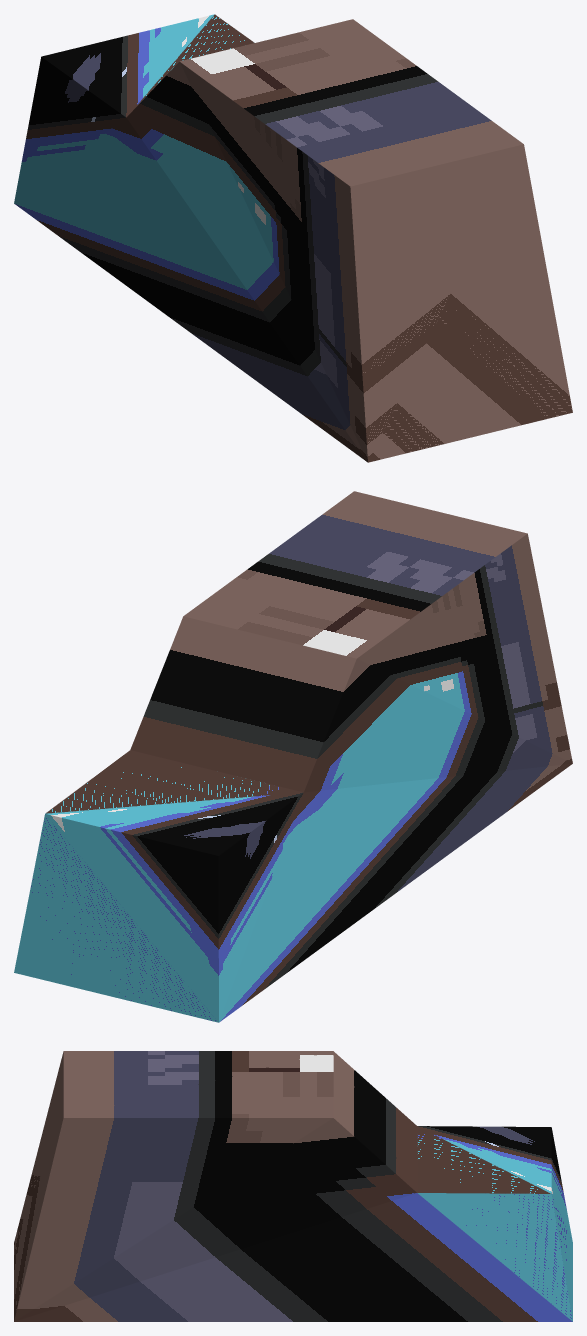
Rendered from car_collider.glb.
The picture shows the model from 3 angles, top to bottom: view 1: azimuth 30°, elevation 25°; view 2: azimuth 150°, elevation 25°; view 3: azimuth 270°, elevation 25°; orthographic projection. The views are drawn at different scales.
Parts seen in each view (by area): view 1: Collision; view 2: Collision; view 3: Collision.
Part boxes in pixels (box(x1,y1,x2,y2)): Collision: box(14, 14, 572, 462); Collision: box(14, 491, 572, 1022); Collision: box(14, 1051, 572, 1321).
Bounding box in the file's own units: 1.59 × 1.85 × 4.76.
1 material, 1 textured.
